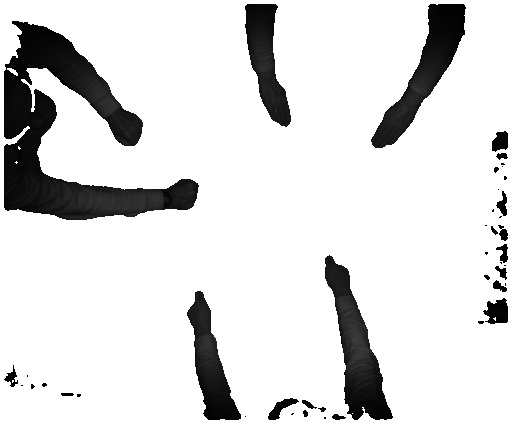fist: (111, 110, 143, 151), (171, 176, 199, 215)
hand: (368, 101, 417, 151), (320, 248, 356, 293), (261, 80, 295, 127), (184, 288, 215, 335)
